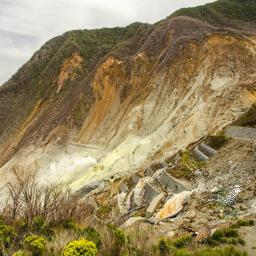Cuckoo: (180, 225, 220, 241)
Sparrow: (205, 183, 245, 220)
